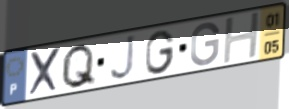G: (144, 28, 177, 76), (189, 21, 222, 68)
H: (221, 9, 262, 66)
J: (108, 33, 137, 82)
Q: (59, 42, 98, 91)
X: (28, 45, 64, 99)
